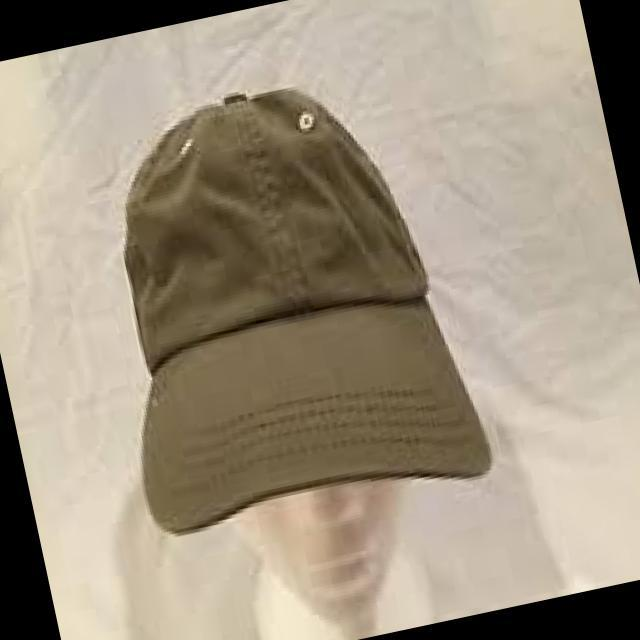cap: (33, 21, 527, 579)
